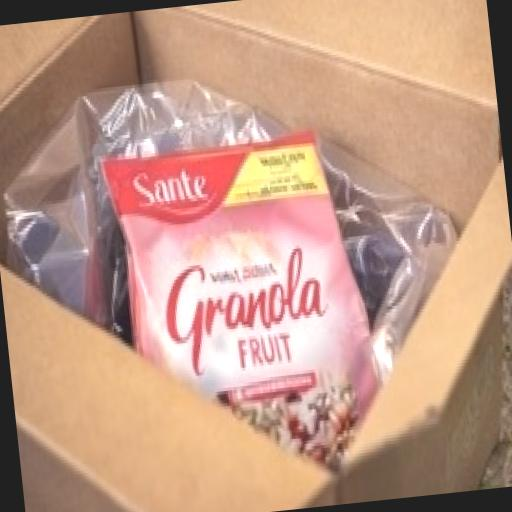granola: (58, 87, 424, 509)
